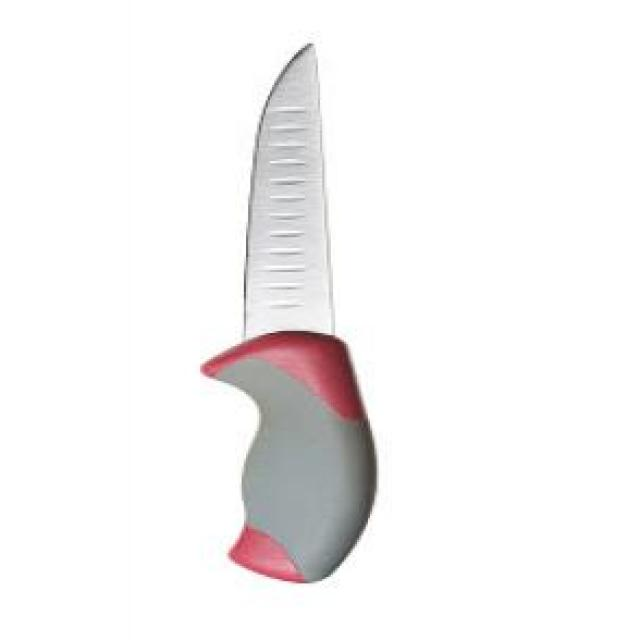knife: (190, 38, 426, 590)
